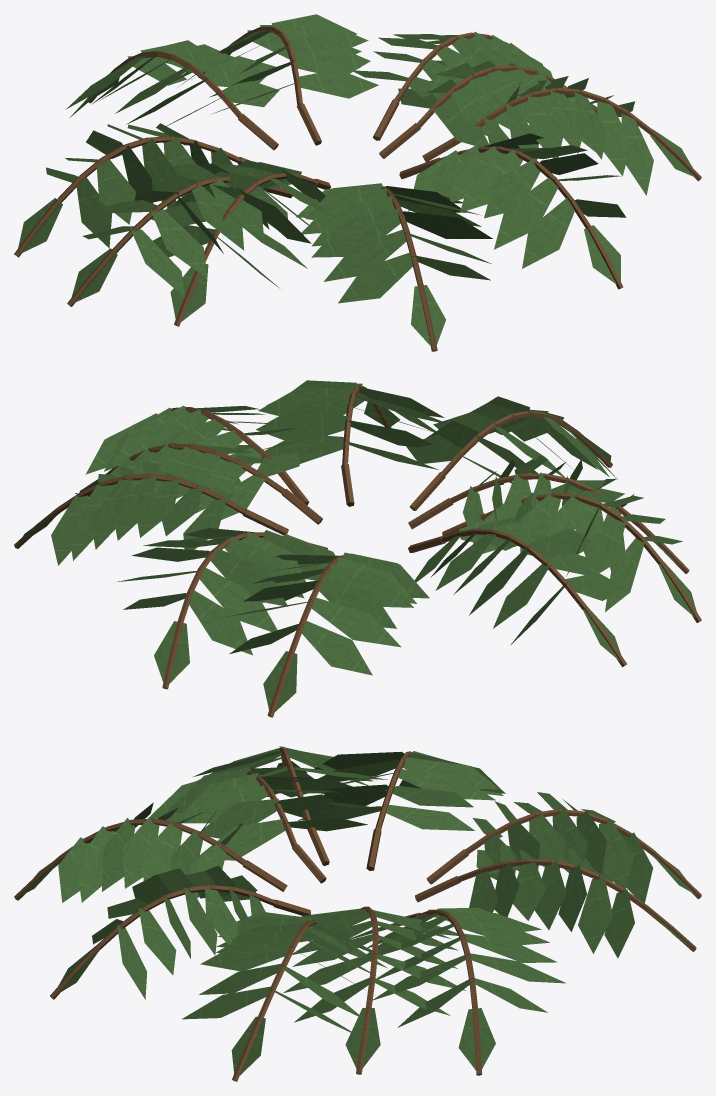
File: en-008_palm_frond_ground_clutter__medium.obj
The picture shows the model from 3 angles, top to bottom: view 1: azimuth 30°, elevation 25°; view 2: azimuth 150°, elevation 25°; view 3: azimuth 270°, elevation 25°; orthographic projection.
Visible parts, largest first — view 1: en-008_palm_frond_ground_clutter__medium; view 2: en-008_palm_frond_ground_clutter__medium; view 3: en-008_palm_frond_ground_clutter__medium.
Part boxes in pixels (x1=…): en-008_palm_frond_ground_clutter__medium: x1=14, y1=14, x2=701, y2=351; en-008_palm_frond_ground_clutter__medium: x1=14, y1=380, x2=701, y2=717; en-008_palm_frond_ground_clutter__medium: x1=14, y1=746, x2=701, y2=1081.
Bounding box in the file's own units: 1.65 × 0.2555 × 1.63.
Materials: 2 (2 with a texture image).
